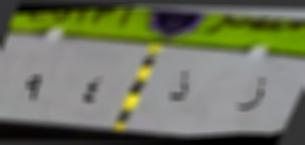4: (78, 76, 108, 108)
9: (23, 70, 46, 107)
zaal: (164, 65, 194, 108)
zay: (226, 70, 268, 115)
